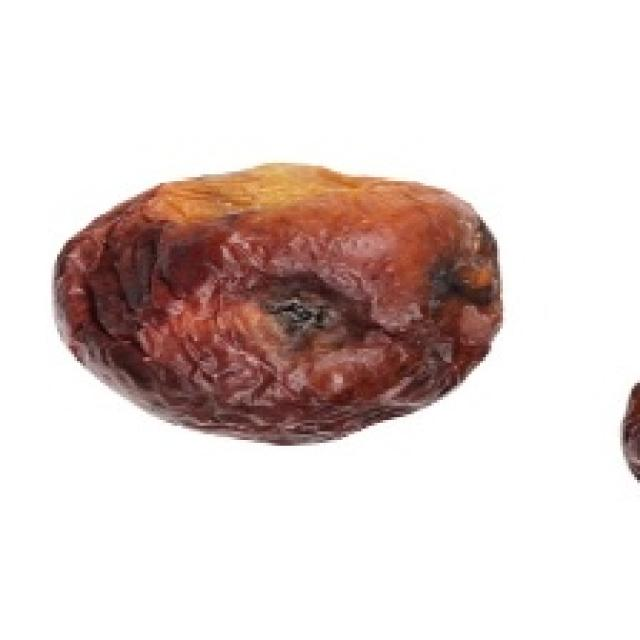rotten_apple: (58, 165, 499, 436)
